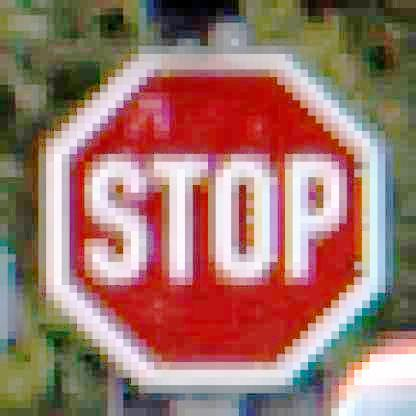Stop Sign: (44, 49, 394, 389)
